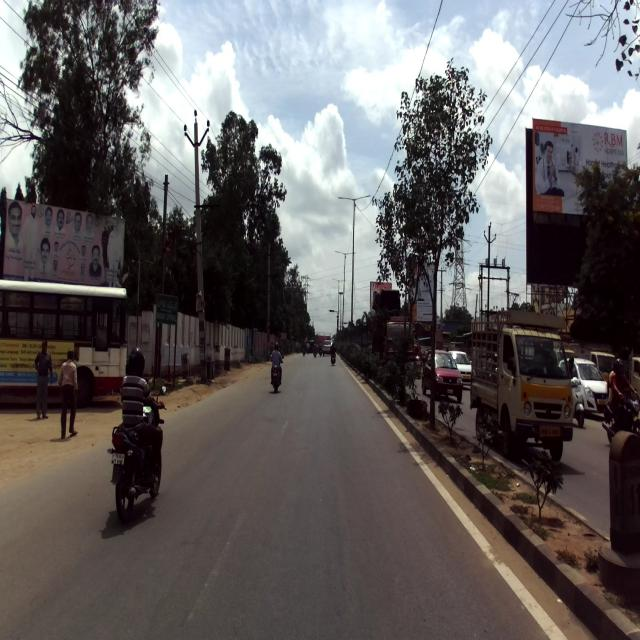bus: (0, 278, 127, 408)
motorcycle: (106, 384, 167, 522), (602, 387, 638, 447)
truck: (470, 312, 574, 460)
